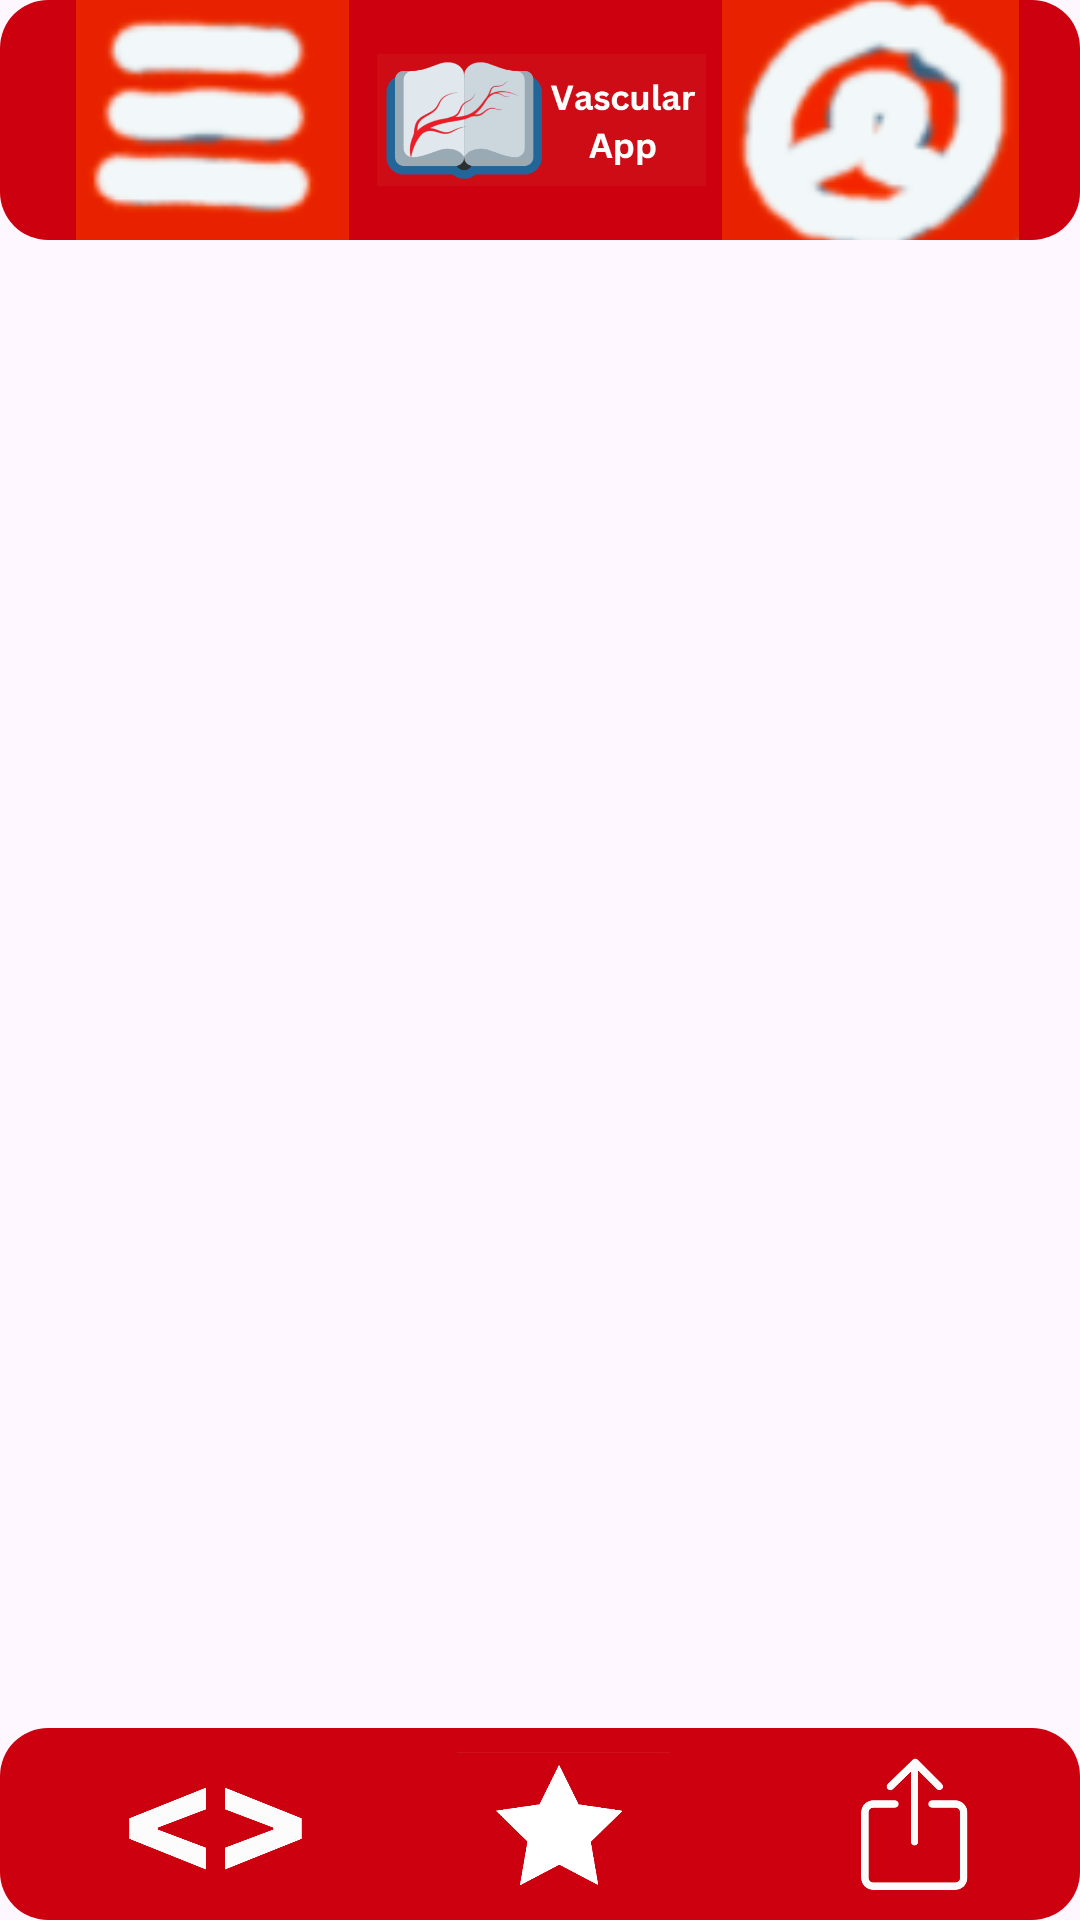

Where to tap for icons on this 1080 × 1920 app screen, as [x,y]:
menu: [212,120]
